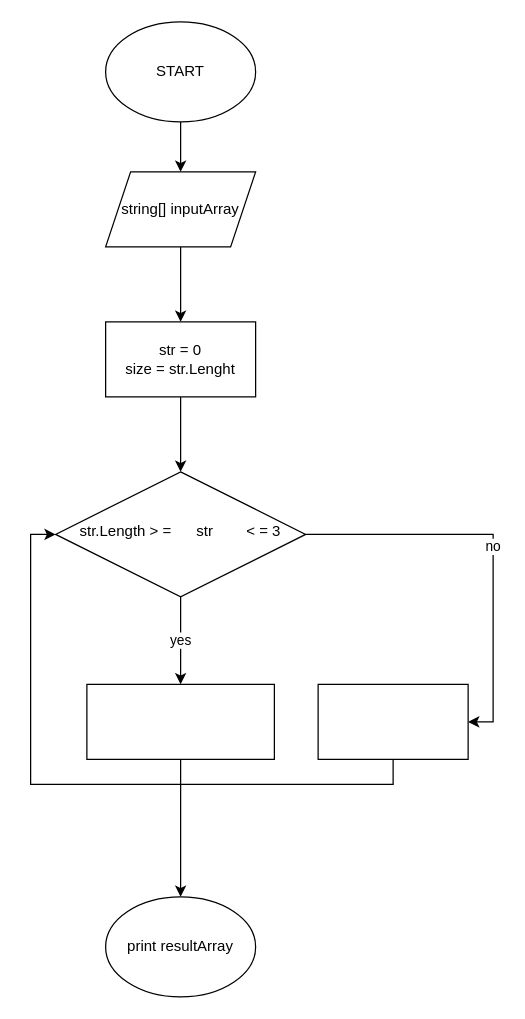
Some shapes in this 525 by 1019 pixel diagram are drawn without their labels. Each missing label, with the centre of its shape:
inrutArray = resultArray[str]: the point at 180,721
str = str + 1: the point at 392,721
